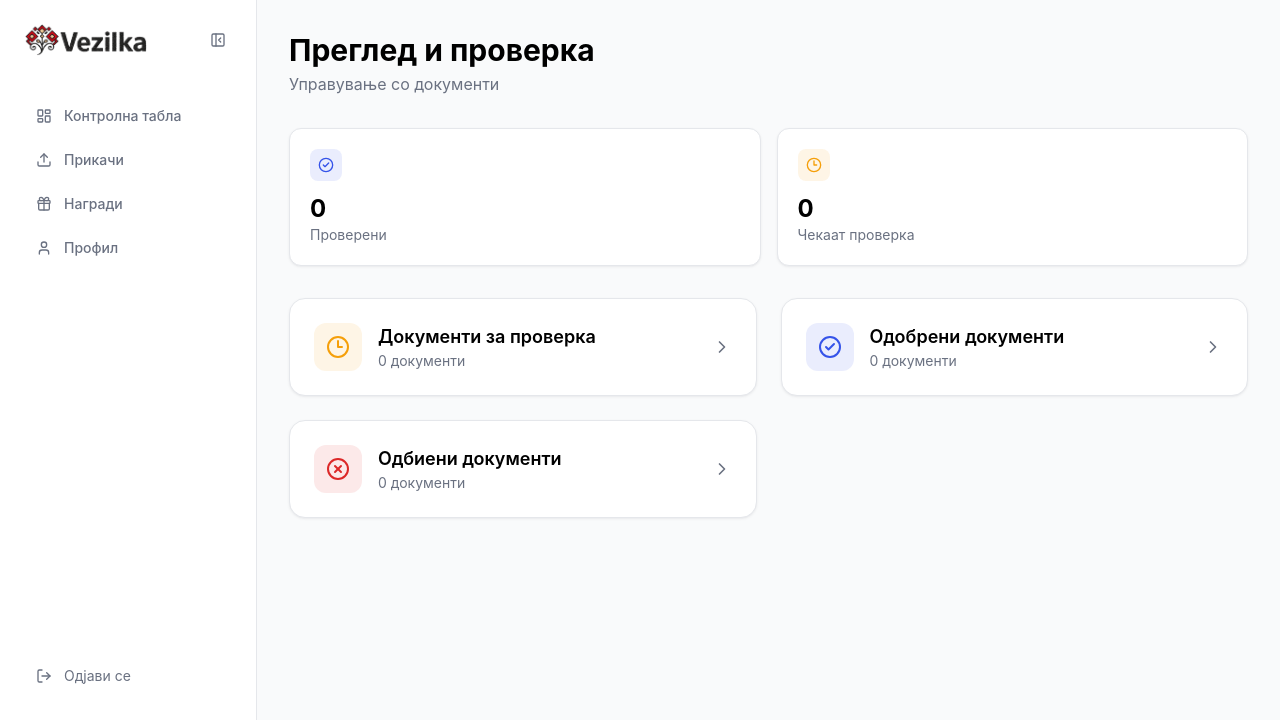
it: AdminPage › opens approved documents section
Click the button "Одобрени документи 0 документи" at (1014, 347), box [780,298,1248,396]
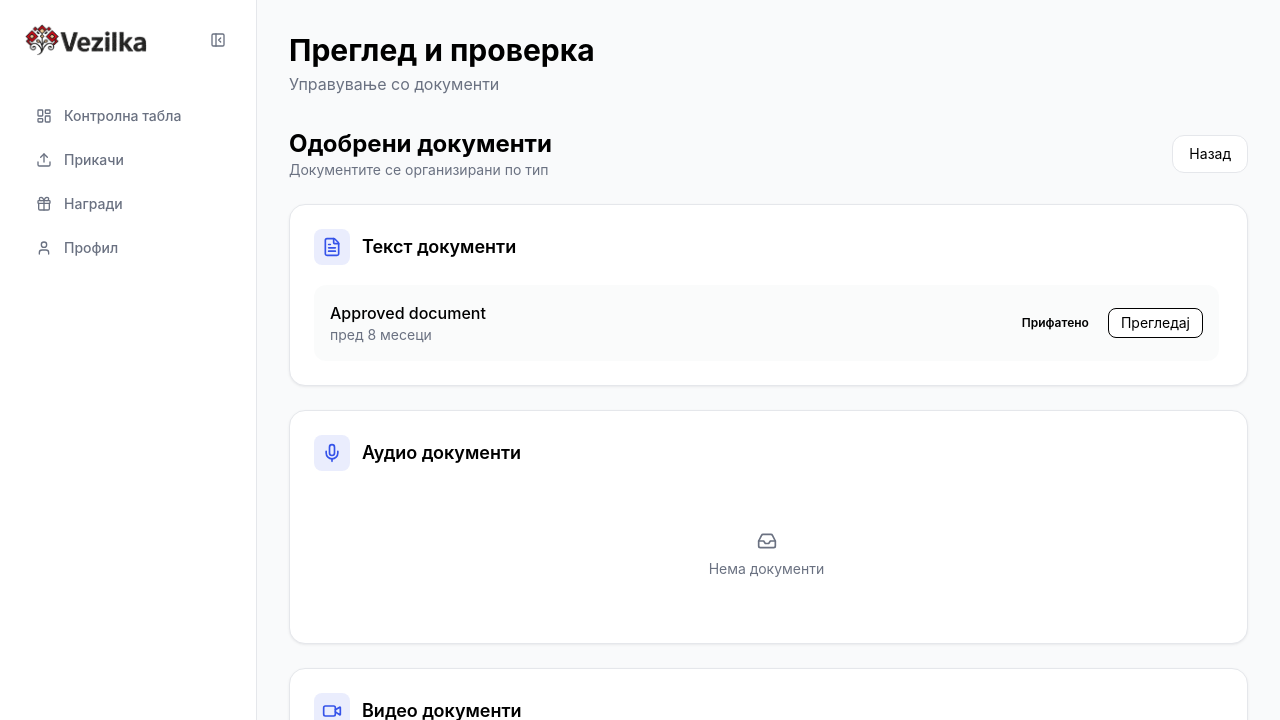
Expected: the heading "Одобрени документи" is shown, [289,128,552,160]
Now the heading "Approved document" is shown, box [330,301,486,325]
